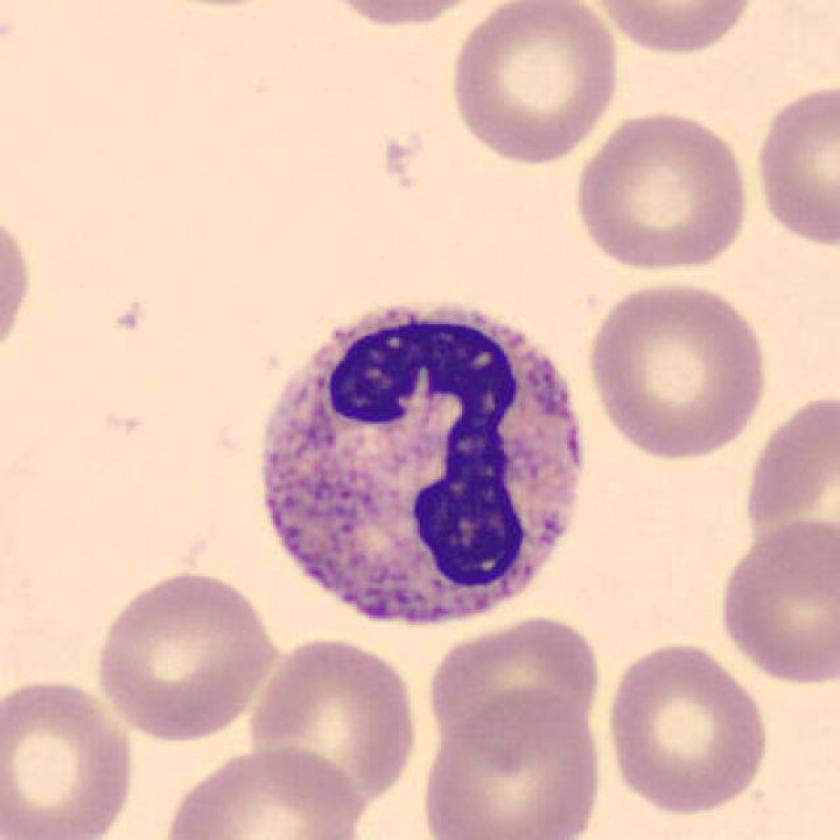neutrophil: (265, 308, 581, 630)
